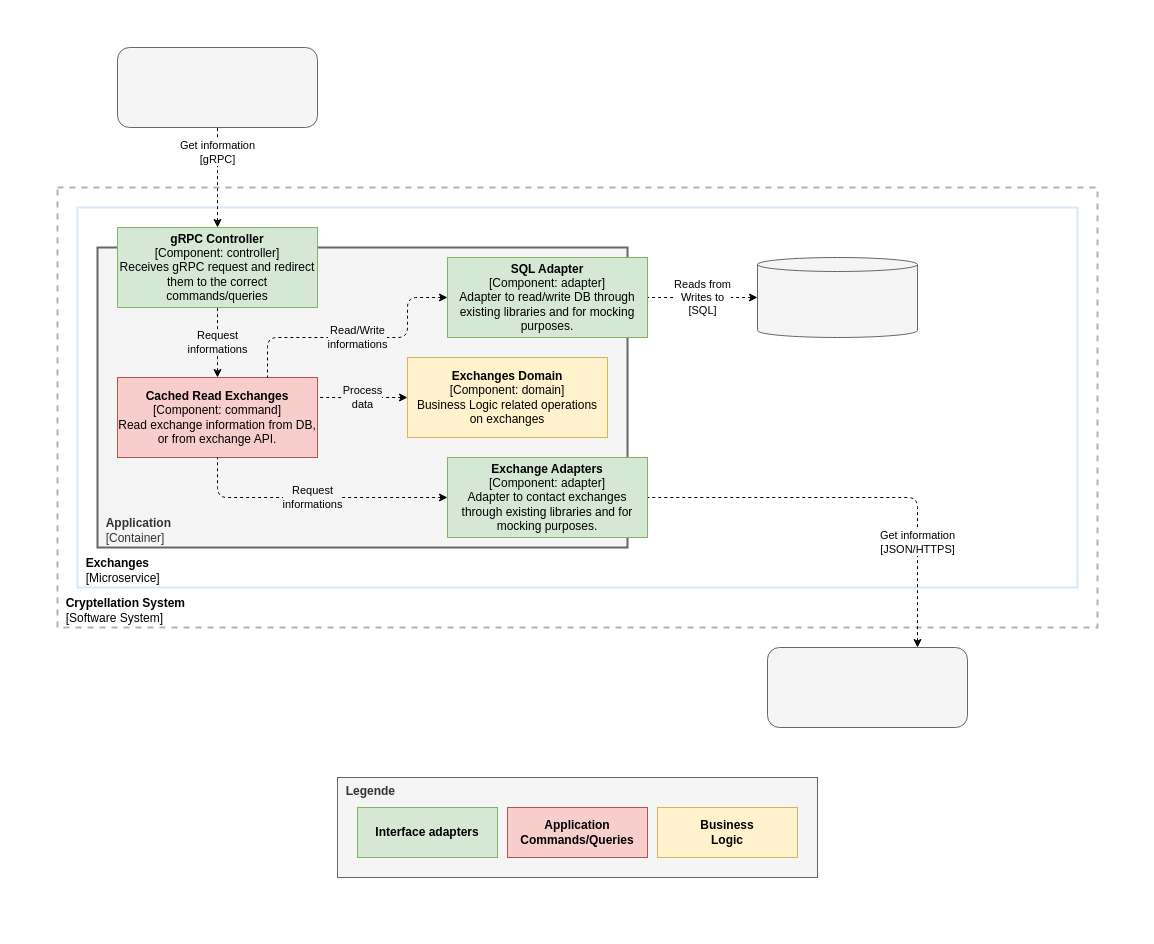
This 1154x944 diagram has some shape labels left out. Each missing label, with the centre of its shape:
Database [SQL Database] Stores exchanges information for further reuse: [837,297]
Exchanges [Internet Service] API that exchanges provides to get informations.: [867,687]
User [Application] Application that a user will run to execute its strategies.: [217,87]
